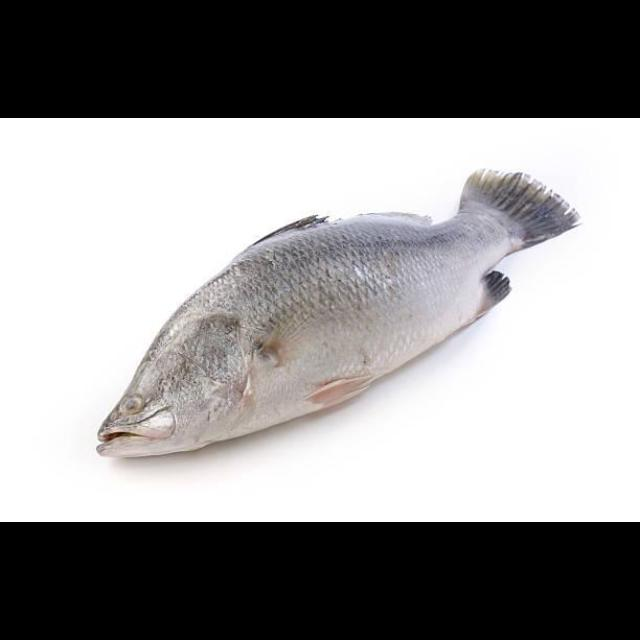Seabass: (94, 164, 582, 466)
